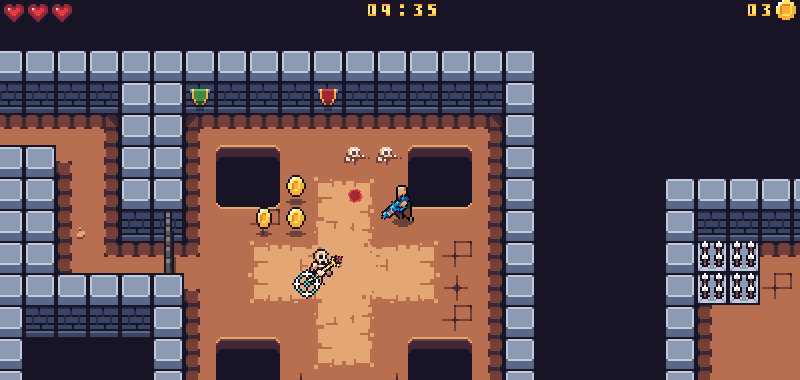enemy_skeleton: (312, 245, 342, 279)
enemy_skeleton_shoot: (346, 188, 362, 203)
gold: (284, 173, 306, 198), (284, 205, 306, 229), (253, 206, 272, 230)
trap_door: (157, 200, 179, 281)
trap_on: (696, 242, 757, 304)
